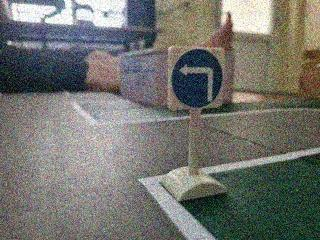left: (167, 44, 224, 110)
